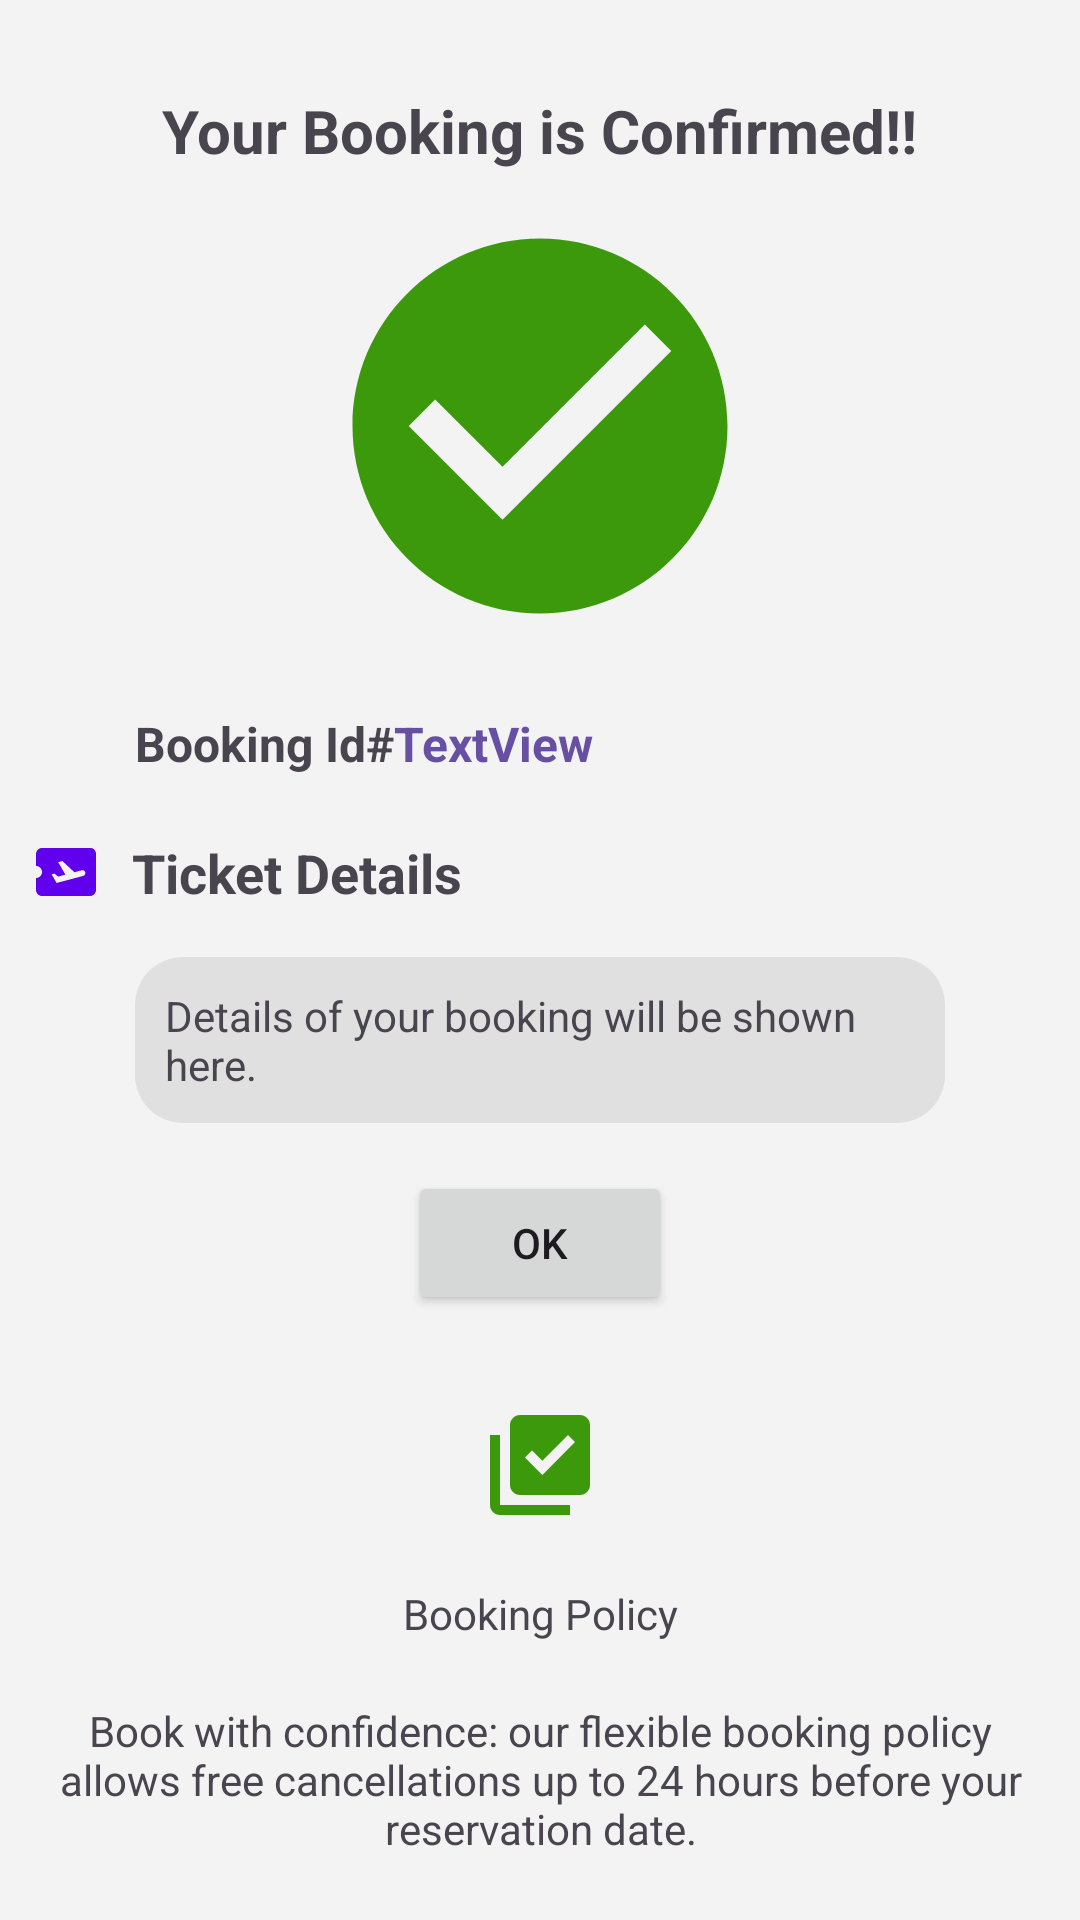

Icons on this 1080 × 1920 Android screen, each with its box as [left=x1, top=y1, right=x2, bottom=y2]:
airplane ticket: [left=36, top=848, right=96, bottom=896]
library add check: [left=490, top=1415, right=590, bottom=1515]
